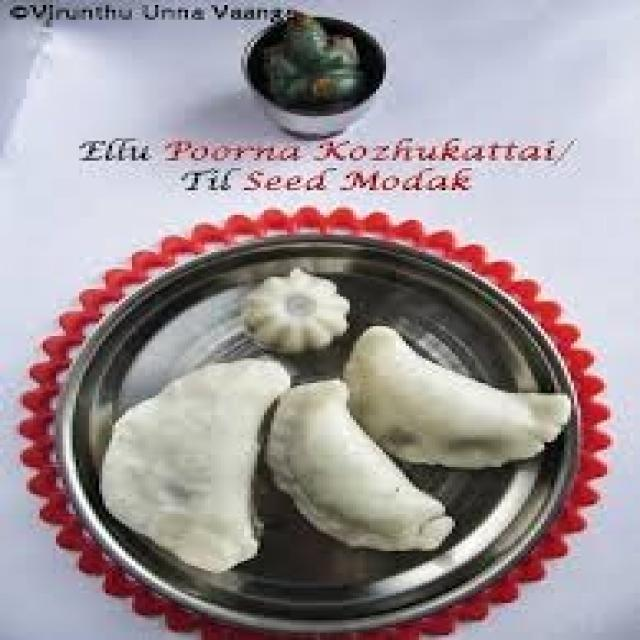poorna kolukattai: (66, 254, 634, 609)
